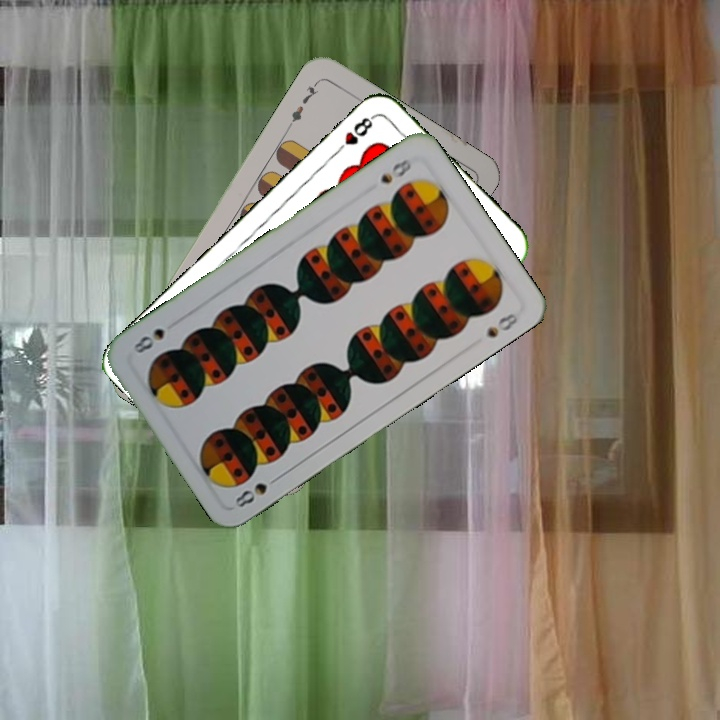E7: (286, 77, 322, 129)
H8: (331, 111, 378, 157)
S8: (231, 471, 284, 511), (376, 155, 414, 187)
